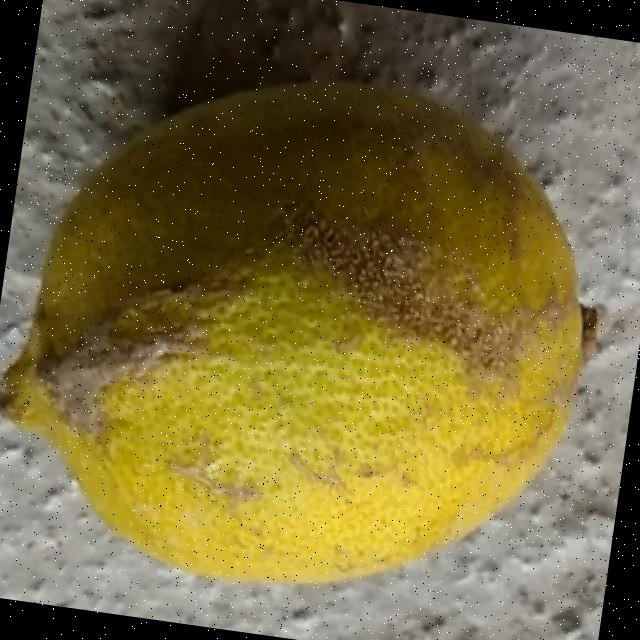overripe: (0, 30, 627, 637)
